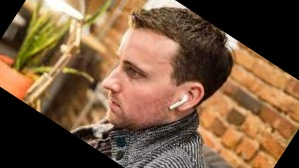earphone: (166, 75, 209, 122)
